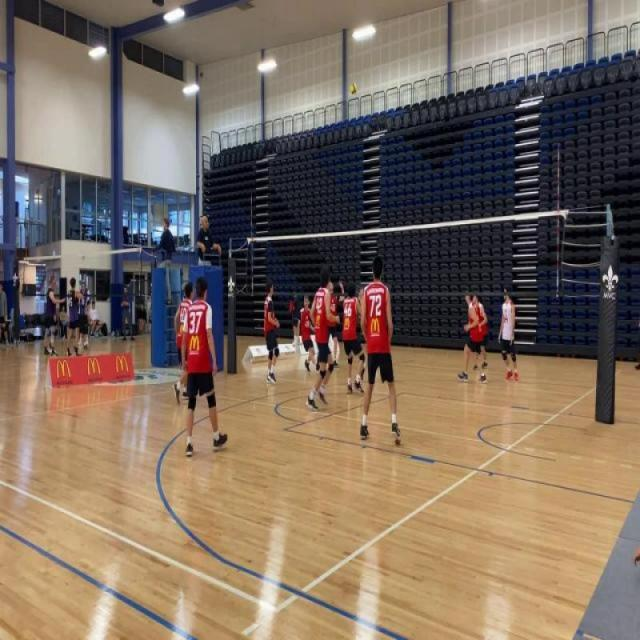volleyball: (348, 80, 359, 96)
